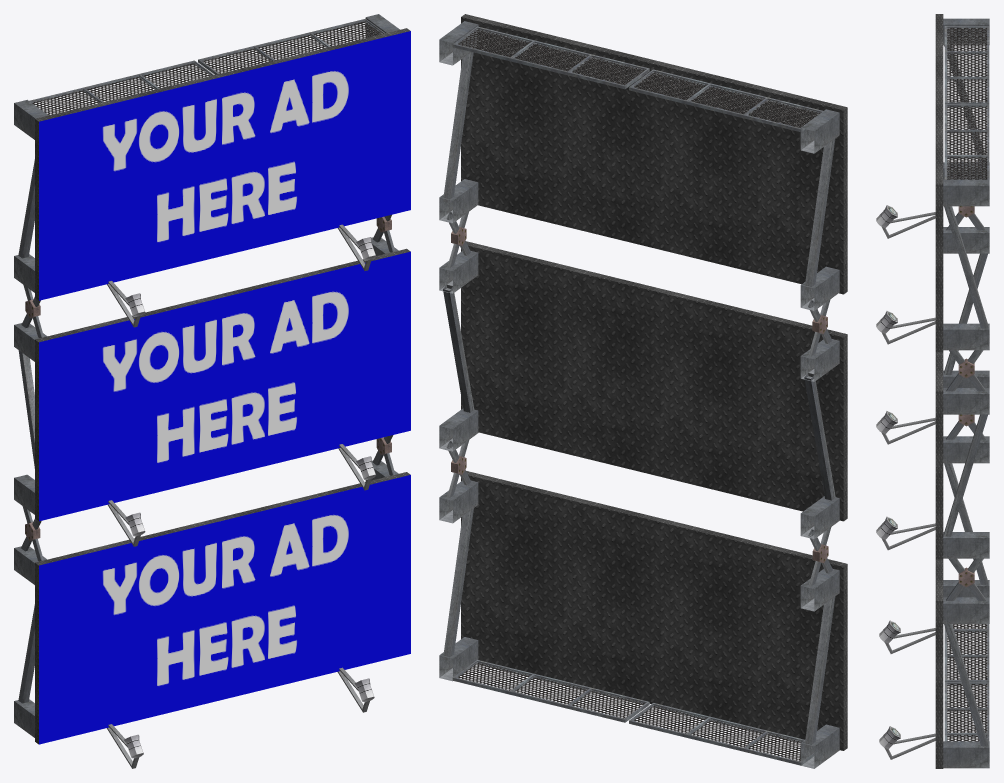
The model's file is billboard_06.fbx.
3 renders of one model, left to right at view 1: azimuth 30°, elevation 25°; view 2: azimuth 150°, elevation 25°; view 3: azimuth 270°, elevation 25°, orthographic. The views are drawn at different scales.
Parts seen in each view (by area): view 1: polySurface55, polySurface42, polySurface54, group1_pCube37, pCube523, polySurface105, pCube524, polySurface67, polySurface68, polySurface66; view 2: polySurface54, polySurface42, polySurface55, group1_pCube37, group1_pCube36, pCube524, pCube523, polySurface105, polySurface88, polySurface93, polySurface104, polySurface99; view 3: group1_pCube37, pCube524, polySurface105, pCube523, group1_pCube36, polySurface55, polySurface42, polySurface54, polySurface67, polySurface68, polySurface66, polySurface93 (+3 smaller).
Part boxes in pixels (x1,y1,x2,y2): polySurface55: (35, 28, 410, 300); polySurface42: (35, 472, 410, 744); polySurface54: (35, 248, 410, 521); group1_pCube37: (29, 18, 384, 115); pCube523: (14, 14, 399, 292); polySurface105: (14, 237, 398, 514); pCube524: (14, 460, 398, 737); polySurface67: (107, 444, 375, 546); polySurface68: (107, 224, 376, 327); polySurface66: (107, 667, 374, 768); polySurface54: (461, 241, 847, 521); polySurface42: (461, 471, 847, 750); polySurface55: (461, 14, 847, 294); group1_pCube37: (452, 26, 822, 132); group1_pCube36: (452, 660, 814, 765); pCube524: (439, 480, 839, 768); pCube523: (439, 21, 839, 310); polySurface105: (439, 251, 839, 539); polySurface88: (808, 527, 832, 588); polySurface93: (446, 440, 471, 500); polySurface104: (808, 299, 832, 359); polySurface99: (446, 212, 470, 271); group1_pCube37: (944, 26, 989, 179); pCube524: (943, 436, 989, 768); polySurface105: (943, 227, 989, 558); pCube523: (943, 18, 989, 350); group1_pCube36: (944, 624, 989, 741); polySurface55: (935, 14, 943, 352); polySurface42: (935, 559, 943, 768); polySurface54: (935, 352, 943, 559); polySurface67: (876, 411, 935, 550); polySurface68: (876, 205, 935, 344); polySurface66: (879, 620, 935, 759); polySurface93: (946, 558, 986, 600).
Bounding box in the file's own units: 64.59 × 107 × 18.13.
